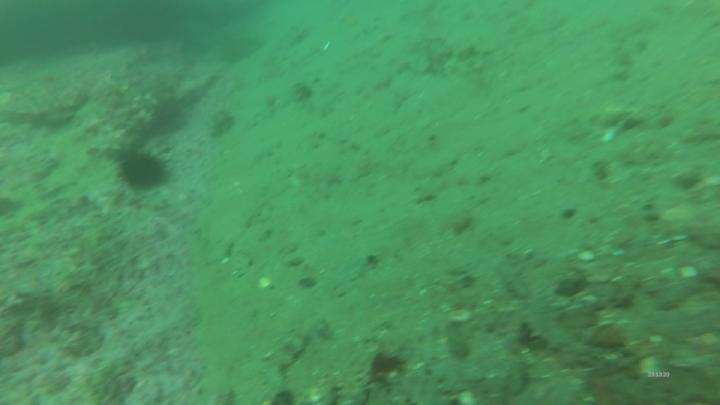echinus: (115, 142, 170, 192), (152, 96, 186, 137)
